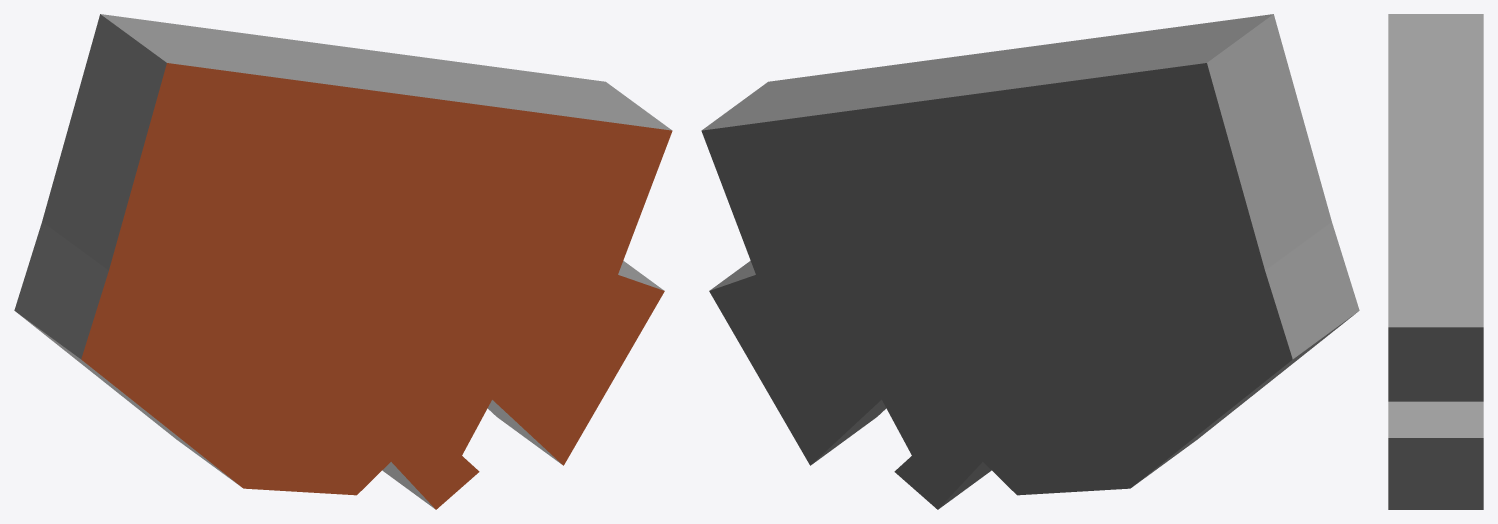
Rendered from construction_6112_assumed_A_Casa_h6m.obj.
3 renders of one model, left to right at view 1: azimuth 30°, elevation 25°; view 2: azimuth 150°, elevation 25°; view 3: azimuth 270°, elevation 25°, orthographic. The views are drawn at different scales.
Visible parts, largest first — view 1: construction_6112_assumed_A_Casa; view 2: construction_6112_assumed_A_Casa; view 3: construction_6112_assumed_A_Casa.
Boxes of the visible parts, left/top/right/bottom form: construction_6112_assumed_A_Casa: left=14, top=14, right=672, bottom=509; construction_6112_assumed_A_Casa: left=701, top=14, right=1359, bottom=509; construction_6112_assumed_A_Casa: left=1388, top=14, right=1483, bottom=509.
Bounding box in the file's own units: 30.66 × 25.4 × 6.
